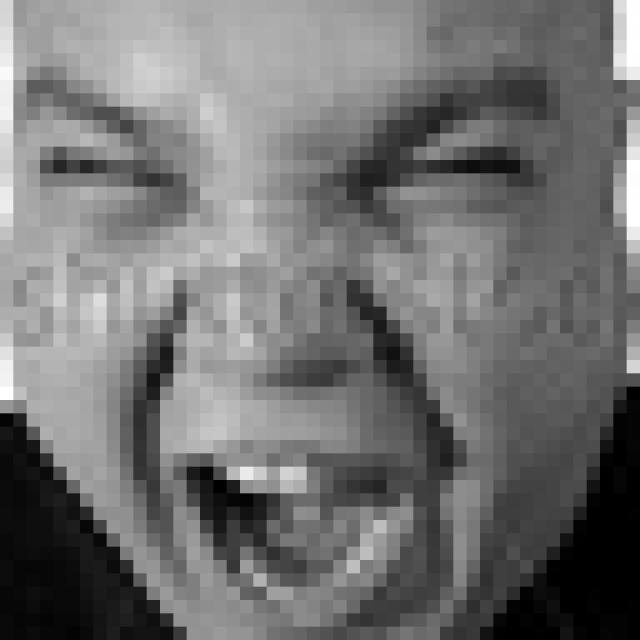angry: (11, 66, 559, 616)
